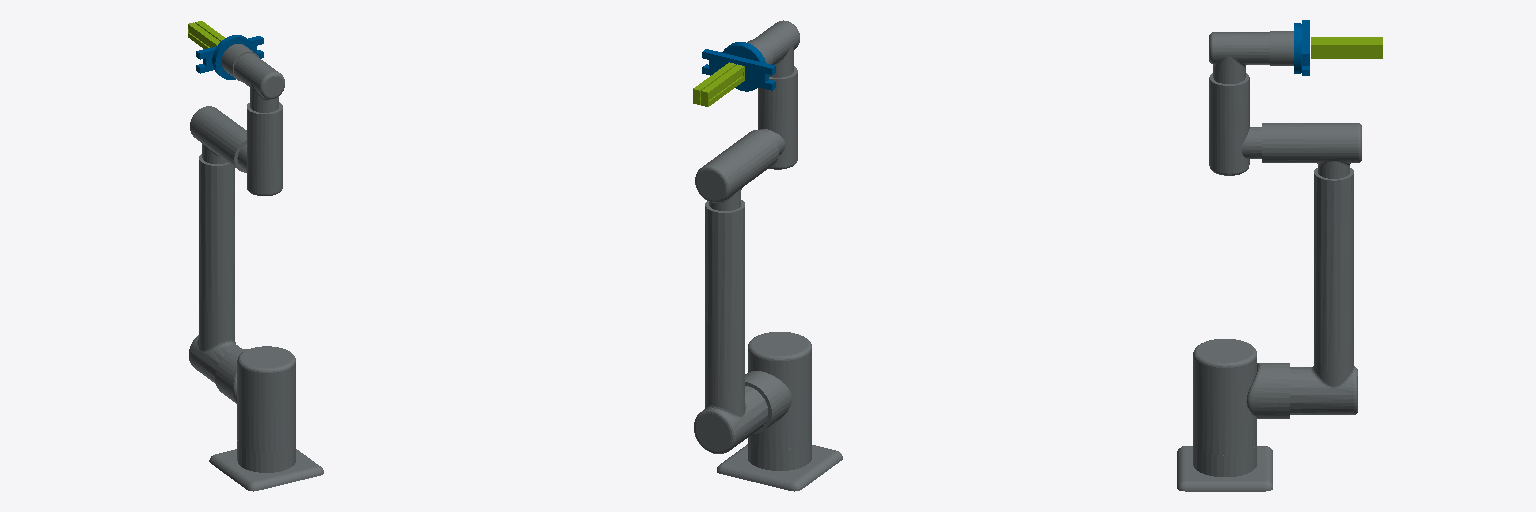
robot.urdf — bobby_v3:
<?xml version="1.0" encoding="utf-8"?>
<!-- This URDF was automatically created by SolidWorks to URDF Exporter! Originally created by Stephen Brawner (brawner@gmail.com) 
     Commit Version: 1.6.0-4-g7f85cfe  Build Version: 1.6.7995.38578
     For more information, please see http://wiki.ros.org/sw_urdf_exporter -->
<robot
  name="bobby_v3">
  <link
    name="base_link">
    <inertial>
      <origin
        xyz="-6.93889390390723E-18 -8.67361737988404E-18 0.00903009179983284"
        rpy="0 0 0" />
      <mass
        value="0.168853238991176" />
      <inertia
        ixx="0.000188908722369925"
        ixy="-5.7902642878712E-21"
        ixz="4.9831826221772E-21"
        iyy="0.000188908722369926"
        iyz="-1.68425616825269E-20"
        izz="0.000347553571686864" />
    </inertial>
    <visual>
      <origin
        xyz="0 0 0"
        rpy="0 0 0" />
      <geometry>
        <mesh
          filename="package://bobby/meshes/base_link.STL" />
      </geometry>
      <material
        name="technikum_grau">
        <color
          rgba="0.447 0.471 0.478 1" />
      </material>
    </visual>
    <collision>
      <origin
        xyz="0 0 0"
        rpy="0 0 0" />
      <geometry>
        <mesh
          filename="package://bobby/meshes/base_link.STL" />
      </geometry>
    </collision>
  </link>
  <link
    name="link_1">
    <inertial>
      <origin
        xyz="-2.15652112519824E-07 0.0107734448420019 0.109157368914489"
        rpy="0 0 0" />
      <mass
        value="0.19567354215977" />
      <inertia
        ixx="0.00036569472644765"
        ixy="3.25955315579442E-10"
        ixz="1.75361435601525E-09"
        iyy="0.000399646100597159"
        iyz="5.8509284245807E-07"
        izz="0.000228564395108126" />
    </inertial>
    <visual>
      <origin
        xyz="0 0 0"
        rpy="0 0 0" />
      <geometry>
        <mesh
          filename="package://bobby/meshes/link_1.STL" />
      </geometry>
      <material
        name="technikum_grau">
        <color
          rgba="0.447 0.471 0.478 1" />
      </material>
    </visual>
    <collision>
      <origin
        xyz="0 0 0"
        rpy="0 0 0" />
      <geometry>
        <mesh
          filename="package://bobby/meshes/link_1.STL" />
      </geometry>
    </collision>
  </link>
  <joint
    name="joint_1"
    type="revolute">
    <origin
      xyz="0 0 0"
      rpy="0 0 0" />
    <parent
      link="base_link" />
    <child
      link="link_1" />
    <axis
      xyz="0 0 1" />
    <limit
      lower="-3.14"
      upper="3.14"
      effort="80"
      velocity="1.5" />
    <dynamics
      damping="0.2" />
  </joint>
  <link
    name="link_2">
    <inertial>
      <origin
        xyz="-1.60868451060114E-08 -0.114041602248857 0.132749921878617"
        rpy="0 0 0" />
      <mass
        value="0.277035202004268" />
      <inertia
        ixx="0.00289478457764281"
        ixy="-1.24048336188053E-09"
        ixz="1.22368569354385E-09"
        iyy="0.000189976410051189"
        iyz="7.94253254153287E-05"
        izz="0.00286373711090803" />
    </inertial>
    <visual>
      <origin
        xyz="0 0 0"
        rpy="0 0 0" />
      <geometry>
        <mesh
          filename="package://bobby/meshes/link_2.STL" />
      </geometry>
      <material
        name="technikum_grau">
        <color
          rgba="0.447 0.471 0.478 1" />
      </material>
    </visual>
    <collision>
      <origin
        xyz="0 0 0"
        rpy="0 0 0" />
      <geometry>
        <mesh
          filename="package://bobby/meshes/link_2.STL" />
      </geometry>
    </collision>
  </link>
  <joint
    name="joint_2"
    type="revolute">
    <origin
      xyz="0 0 0.11"
      rpy="-1.5707963267949 0 0" />
    <parent
      link="link_1" />
    <child
      link="link_2" />
    <axis
      xyz="0 0 1" />
    <limit
      lower="-2"
      upper="2"
      effort="60"
      velocity="1.5" />
    <dynamics
      damping="0.15" />
  </joint>
  <link
    name="link_3">
    <inertial>
      <origin
        xyz="-4.46835846875521E-07 -0.021332834225784 0.336950985055037"
        rpy="0 0 0" />
      <mass
        value="0.104323112073039" />
      <inertia
        ixx="0.000172552084016025"
        ixy="1.24275852401533E-10"
        ixz="-1.16774421742549E-10"
        iyy="5.69008711097092E-05"
        iyz="6.87130934985452E-06"
        izz="0.000165314592613562" />
    </inertial>
    <visual>
      <origin
        xyz="0 0 0"
        rpy="0 0 0" />
      <geometry>
        <mesh
          filename="package://bobby/meshes/link_3.STL" />
      </geometry>
      <material
        name="technikum_grau">
        <color
          rgba="0.447 0.471 0.478 1" />
      </material>
    </visual>
    <collision>
      <origin
        xyz="0 0 0"
        rpy="0 0 0" />
      <geometry>
        <mesh
          filename="package://bobby/meshes/link_3.STL" />
      </geometry>
    </collision>
  </link>
  <joint
    name="joint_3"
    type="revolute">
    <origin
      xyz="0 0 0.135"
      rpy="1.5707963267949 0 0" />
    <parent
      link="link_2" />
    <child
      link="link_3" />
    <axis
      xyz="0 0 -1" />
    <limit
      lower="-2.5"
      upper="2.5"
      effort="40"
      velocity="2" />
    <dynamics
      damping="0.1" />
  </joint>
  <link
    name="link_4">
    <inertial>
      <origin
        xyz="-7.35759638319233E-08 0.0214973669189123 0.127010226840711"
        rpy="0 0 0" />
      <mass
        value="0.104021403954901" />
      <inertia
        ixx="0.000172095228395825"
        ixy="5.22139873101622E-11"
        ixz="-7.41592698784508E-11"
        iyy="5.67379606621111E-05"
        iyz="-6.68507413422721E-06"
        izz="0.000164961710546567" />
    </inertial>
    <visual>
      <origin
        xyz="0 0 0"
        rpy="0 0 0" />
      <geometry>
        <mesh
          filename="package://bobby/meshes/link_4.STL" />
      </geometry>
      <material
        name="technikum_grau">
        <color
          rgba="0.447 0.471 0.478 1" />
      </material>
    </visual>
    <collision>
      <origin
        xyz="0 0 0"
        rpy="0 0 0" />
      <geometry>
        <mesh
          filename="package://bobby/meshes/link_4.STL" />
      </geometry>
    </collision>
  </link>
  <joint
    name="joint_4"
    type="revolute">
    <origin
      xyz="0 0.000262563950500366 0.34"
      rpy="1.5707963267949 0 0" />
    <parent
      link="link_3" />
    <child
      link="link_4" />
    <axis
      xyz="0 0 -1" />
    <limit
      lower="-3.14"
      upper="3.14"
      effort="20"
      velocity="3" />
    <dynamics
      damping="0.05" />
  </joint>
  <link
    name="link_5">
    <inertial>
      <origin
        xyz="-7.72747078825464E-09 0.0118852064404541 0.124078122231419"
        rpy="0 0 0" />
      <mass
        value="0.0635312499775335" />
      <inertia
        ixx="5.3078651829625E-05"
        ixy="-2.16462957974075E-11"
        ixz="-2.18923663634894E-11"
        iyy="2.59966766341151E-05"
        iyz="-4.43828682190682E-06"
        izz="4.66910033521407E-05" />
    </inertial>
    <visual>
      <origin
        xyz="0 0 0"
        rpy="0 0 0" />
      <geometry>
        <mesh
          filename="package://bobby/meshes/link_5.STL" />
      </geometry>
      <material
        name="technikum_grau">
        <color
          rgba="0.447 0.471 0.478 1" />
      </material>
    </visual>
    <collision>
      <origin
        xyz="0 0 0"
        rpy="0 0 0" />
      <geometry>
        <mesh
          filename="package://bobby/meshes/link_5.STL" />
      </geometry>
    </collision>
  </link>
  <joint
    name="joint_5"
    type="revolute">
    <origin
      xyz="0 -0.000178126389957234 0.13"
      rpy="-1.5707963267949 0 0" />
    <parent
      link="link_4" />
    <child
      link="link_5" />
    <axis
      xyz="0 0 -1" />
    <limit
      lower="-2"
      upper="2"
      effort="15"
      velocity="3.5" />
    <dynamics
      damping="0.05" />
  </joint>
  <link
    name="link_6">
    <inertial>
      <origin
        xyz="-9.09411435046081E-14 -4.99933427988708E-13 0.00443393044915172"
        rpy="0 0 0" />
      <mass
        value="0.0247796339074861" />
      <inertia
        ixx="5.79719477129161E-06"
        ixy="1.69371937738642E-21"
        ixz="-1.74584771115396E-21"
        iyy="5.61206813663289E-06"
        iyz="1.25047386620786E-20"
        izz="8.2664668127508E-06" />
    </inertial>
    <visual>
      <origin xyz="0 0 -0.005" rpy="0 0 0"/>
      <geometry><mesh filename="package://bobby/meshes/link_6.STL" scale="0.001 0.001 0.001"/></geometry>
      <material name="technikum_grau"><color rgba="0.447 0.471 0.478 1"/></material>
    </visual>
    <collision>
      <origin xyz="0 0 -0.005" rpy="0 0 0"/>
      <geometry><mesh filename="package://bobby/meshes/link_6.STL" scale="0.001 0.001 0.001"/></geometry>
    </collision>
  </link>
  <joint
    name="joint_6"
    type="revolute">
    <origin
      xyz="0 0.0700000000012193 0.129999999999002"
      rpy="-1.57079632679489 0 0" />
    <parent
      link="link_5" />
    <child
      link="link_6" />
    <axis
      xyz="0 0 -1" />
    <limit
      lower="-3.14"
      upper="3.14"
      effort="10"
      velocity="4" />
    <dynamics
      damping="0.03" />
  </joint>
  <!-- ===================== Parallelbackengreifer (an link_5) ===================== -->
  <!-- Flanschplatte -->
  <link name="gripper_flange">
    <inertial>
      <origin xyz="0 0 0.005" rpy="0 0 0"/>
      <mass value="0.2"/>
      <inertia ixx="6.782e-05" ixy="0" ixz="0" iyy="6.782e-05" iyz="0" izz="1.323e-04"/>
    </inertial>
    <visual>
      <origin xyz="0 0 0.005" rpy="0 0 0"/>
      <geometry><mesh filename="package://bobby/meshes/gripper_flange.STL" scale="0.001 0.001 0.001"/></geometry>
      <material name="technikum_blau"><color rgba="0 0.392 0.612 1"/></material>
    </visual>
    <collision>
      <origin xyz="0 0 0.005" rpy="0 0 0"/>
      <geometry><mesh filename="package://bobby/meshes/gripper_flange.STL" scale="0.001 0.001 0.001"/></geometry>
    </collision>
  </link>
  <joint name="gripper_flange_joint" type="fixed">
    <origin xyz="0 0 0.01" rpy="0 0 0"/>
    <parent link="link_6"/>
    <child link="gripper_flange"/>
    <axis xyz="0 0 0"/>
  </joint>

  <!-- Greiferkörper -->
  <link name="gripper_base">
    <inertial>
      <origin xyz="0 0 0.015" rpy="0 0 0"/>
      <mass value="0.028"/>
      <inertia ixx="2.333e-06" ixy="0" ixz="0" iyy="2.357e-05" iyz="0" izz="2.543e-05"/>
    </inertial>
    <visual>
      <origin xyz="0 0 0.015" rpy="0 0 0"/>
      <geometry><mesh filename="package://bobby/meshes/gripper_base.STL" scale="0.001 0.001 0.001"/></geometry>
      <material name="technikum_blau"/>
    </visual>
    <collision>
      <origin xyz="0 0 0.015" rpy="0 0 0"/>
      <geometry><mesh filename="package://bobby/meshes/gripper_base.STL" scale="0.001 0.001 0.001"/></geometry>
    </collision>
  </link>
  <joint name="gripper_base_joint" type="fixed">
    <origin xyz="0 0 0" rpy="0 0 0"/>
    <parent link="gripper_flange"/>
    <child link="gripper_base"/>
    <axis xyz="0 0 0"/>
  </joint>

  <!-- Linke Backe (angetrieben) -->
  <link name="finger_left">
    <inertial>
      <origin xyz="0 0 0.045" rpy="0 0 0"/>
      <mass value="0.05"/>
      <inertia ixx="3.542e-05" ixy="0" ixz="0" iyy="3.417e-05" iyz="0" izz="2.083e-06"/>
    </inertial>
    <visual>
      <origin xyz="0 0 0.045" rpy="0 0 0"/>
      <geometry><mesh filename="package://bobby/meshes/finger_left.STL" scale="0.001 0.001 0.001"/></geometry>
      <material name="technikum_gruen"><color rgba="0.545 0.702 0.114 1"/></material>
    </visual>
    <collision>
      <origin xyz="0 0 0.045" rpy="0 0 0"/>
      <geometry><mesh filename="package://bobby/meshes/finger_left.STL" scale="0.001 0.001 0.001"/></geometry>
    </collision>
  </link>
  <joint name="finger_left_joint" type="prismatic">
    <origin xyz="0.006 0 0.021" rpy="0 0 0"/>
    <parent link="gripper_base"/>
    <child link="finger_left"/>
    <axis xyz="1 0 0"/>
    <limit lower="0" upper="0.04" effort="50" velocity="0.1"/>
  </joint>

  <!-- Rechte Backe (gegenläufig gekoppelt) -->
  <link name="finger_right">
    <inertial>
      <origin xyz="0 0 0.045" rpy="0 0 0"/>
      <mass value="0.05"/>
      <inertia ixx="3.542e-05" ixy="0" ixz="0" iyy="3.417e-05" iyz="0" izz="2.083e-06"/>
    </inertial>
    <visual>
      <origin xyz="0 0 0.045" rpy="0 0 0"/>
      <geometry><mesh filename="package://bobby/meshes/finger_left.STL" scale="0.001 0.001 0.001"/></geometry>
      <material name="technikum_gruen"><color rgba="0.545 0.702 0.114 1"/></material>
    </visual>
    <collision>
      <origin xyz="0 0 0.045" rpy="0 0 0"/>
      <geometry><mesh filename="package://bobby/meshes/finger_left.STL" scale="0.001 0.001 0.001"/></geometry>
    </collision>
  </link>
  <joint name="finger_right_joint" type="prismatic">
    <origin xyz="-0.006 0 0.021" rpy="0 0 0"/>
    <parent link="gripper_base"/>
    <child link="finger_right"/>
    <axis xyz="1 0 0"/>
    <limit lower="-0.04" upper="0" effort="50" velocity="0.1"/>
  </joint>

  <!-- TCP: mittig zwischen den Backen, an der Backenspitze -->
  <link name="TCP"/>
  <joint name="TCP_joint" type="fixed">
    <origin xyz="0 0 0.111" rpy="0 0 0"/>
    <parent link="gripper_base"/>
    <child link="TCP"/>
    <axis xyz="0 0 0"/>
  </joint>
</robot>

--- Render facts (derived) ---
The picture shows the robot from 3 angles, left to right: view 1: azimuth 30°, elevation 25°; view 2: azimuth 150°, elevation 25°; view 3: azimuth 270°, elevation 25°; orthographic projection.
Robot: bobby_v3 — 12 links, 11 joints (6 revolute, 2 prismatic, 3 fixed); root link base_link; default pose: all joints at 0.
Visible links, largest first — view 1: link_2, link_1, base_link, link_4, link_3, link_5, gripper_flange, gripper_base; view 2: link_2, link_1, base_link, link_3, link_4, link_5, gripper_base, finger_right, gripper_flange; view 3: link_2, link_1, link_3, link_4, base_link, link_5, finger_left, link_6.
Link boxes in pixels (box(x1,y1,x2,y2)): link_2: box(189, 154, 241, 383); link_1: box(215, 346, 295, 452); base_link: box(209, 440, 323, 491); link_4: box(237, 102, 282, 195); link_3: box(190, 106, 246, 172); link_5: box(234, 53, 284, 112); gripper_flange: box(212, 35, 254, 79); gripper_base: box(196, 36, 263, 73); link_2: box(694, 200, 767, 453); link_1: box(745, 332, 811, 448); base_link: box(717, 438, 842, 491); link_3: box(695, 130, 778, 210); link_4: box(758, 66, 797, 169); link_5: box(753, 20, 799, 77); gripper_base: box(702, 49, 775, 90); finger_right: box(701, 64, 744, 106); gripper_flange: box(722, 42, 765, 91); link_2: box(1290, 168, 1357, 414); link_1: box(1193, 339, 1289, 455); link_3: box(1262, 123, 1361, 178); link_4: box(1209, 73, 1261, 175); base_link: box(1177, 444, 1272, 491); link_5: box(1209, 32, 1269, 83); finger_left: box(1311, 41, 1382, 58); link_6: box(1270, 31, 1293, 65).
Size in the robot's own frame: 0.12 by 0.2563 by 0.6113 metres.
Meshes: 10 distinct files referenced, 11 mesh visuals loaded (10 binary STL).
